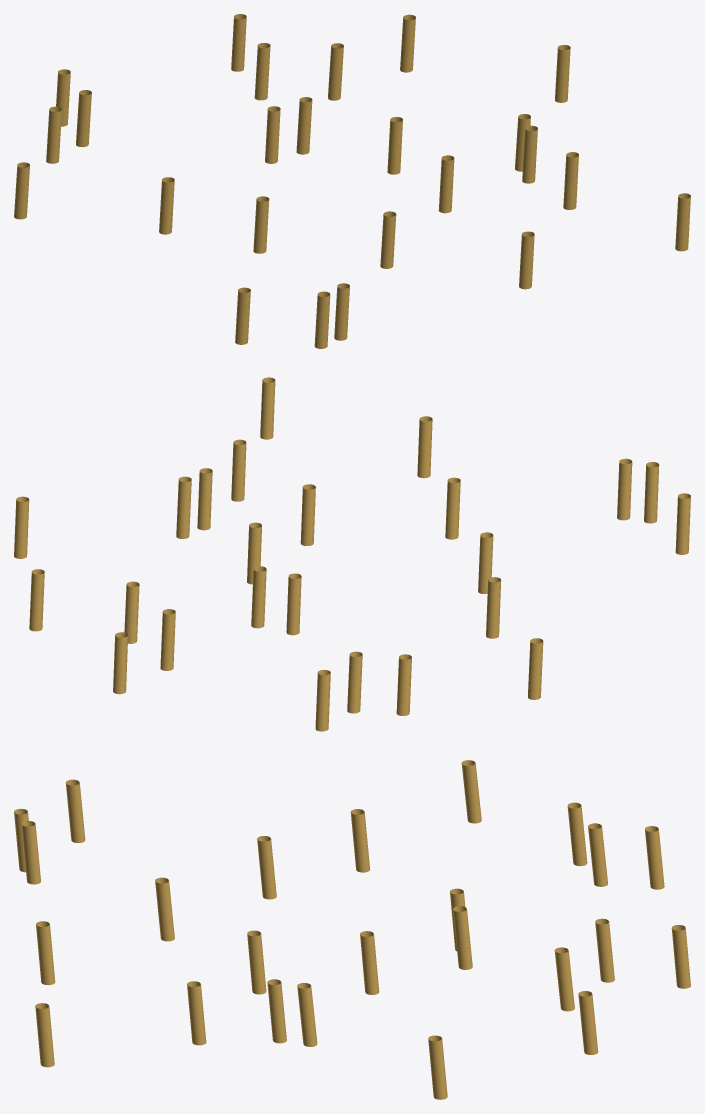
File: Wheat roots.fbx
3 renders of one model, top to bottom at view 1: azimuth 30°, elevation 25°; view 2: azimuth 150°, elevation 25°; view 3: azimuth 270°, elevation 25°, orthographic. The views are drawn at different scales.
Parts seen in each view (by area): view 1: Grid; view 2: Grid; view 3: Grid.
Part boxes in pixels (x1,y1,x2,y2): Grid: (14,14,690,348); Grid: (14,377,690,731); Grid: (14,760,690,1099).
Bounding box in the file's own units: 196 × 18.92 × 198.
